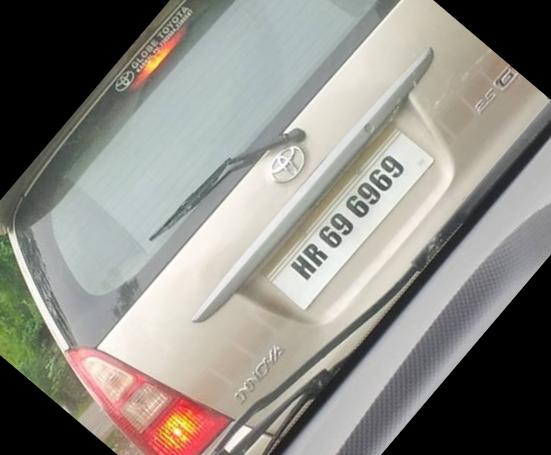plate: (254, 107, 451, 320)
